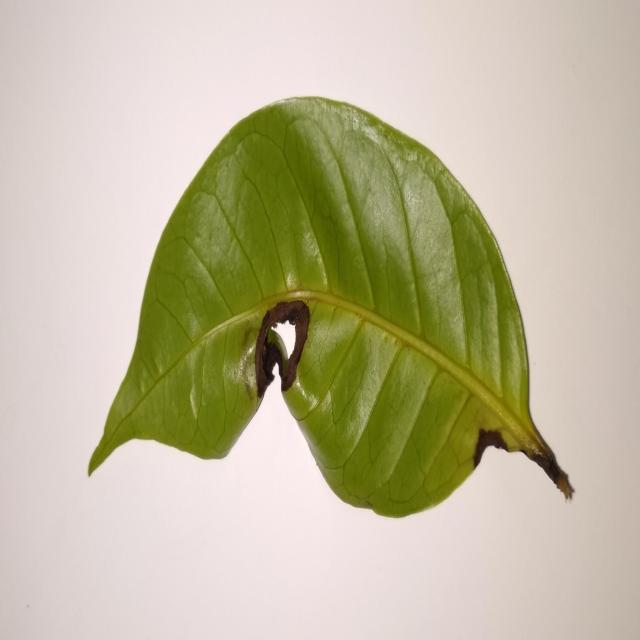Enfermedad-Antracnosis: (87, 96, 574, 522)
